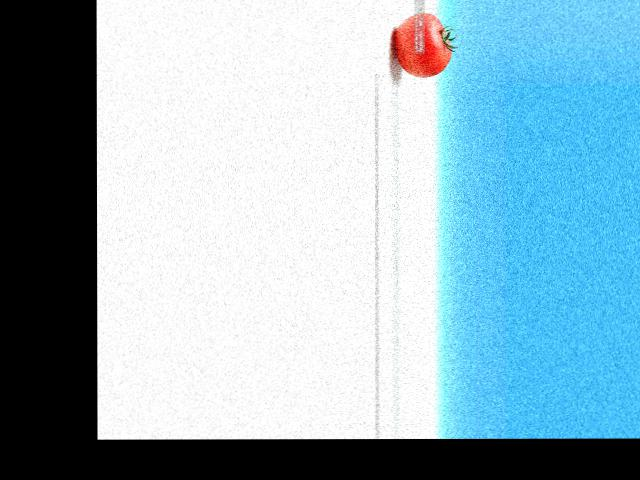tomato: (395, 11, 451, 76)
